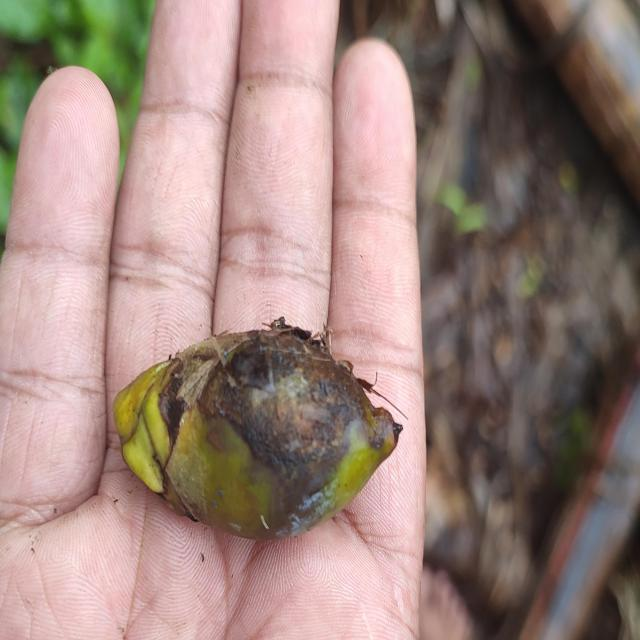damaged: (109, 317, 404, 544)
